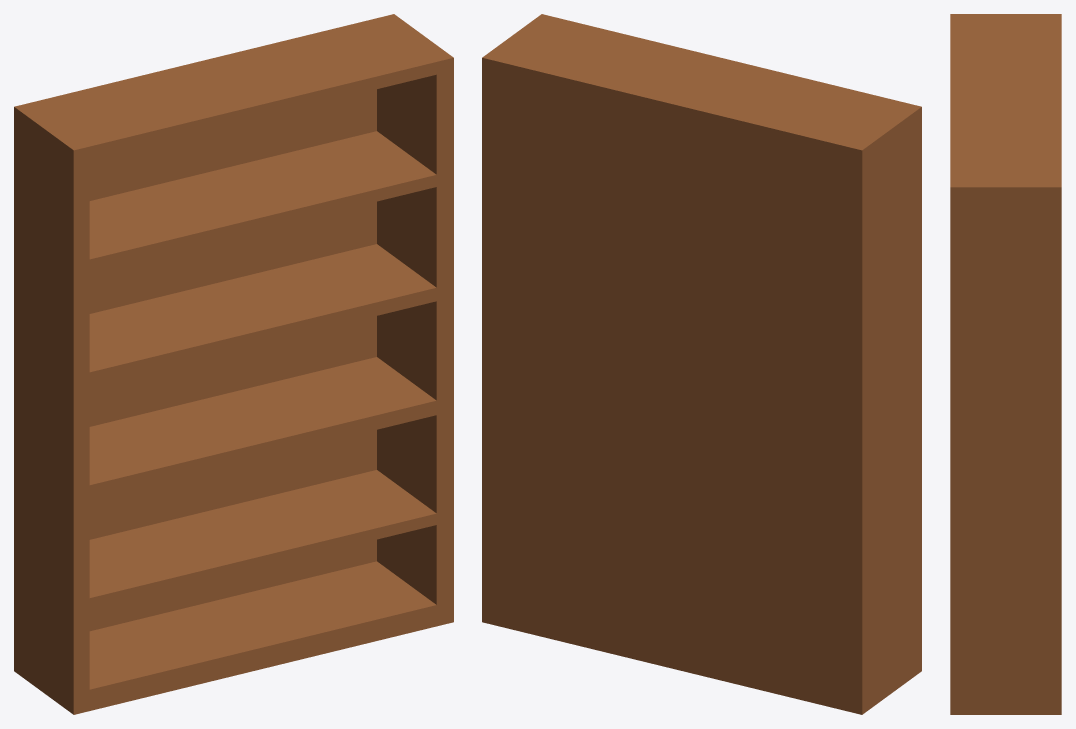
The model's file is BookShelf.fbx.
3 views of the same model, side by side, from view 1: azimuth 30°, elevation 25°; view 2: azimuth 150°, elevation 25°; view 3: azimuth 270°, elevation 25° (orthographic). The views are drawn at different scales.
Parts seen in each view (by area): view 1: book_shelf; view 2: book_shelf; view 3: book_shelf.
Boxes of the visible parts, left/top/right/bottom form: book_shelf: left=14, top=14, right=453, bottom=714; book_shelf: left=482, top=14, right=921, bottom=714; book_shelf: left=950, top=14, right=1061, bottom=714.
Bounding box in the file's own units: 414 × 587 × 113.
